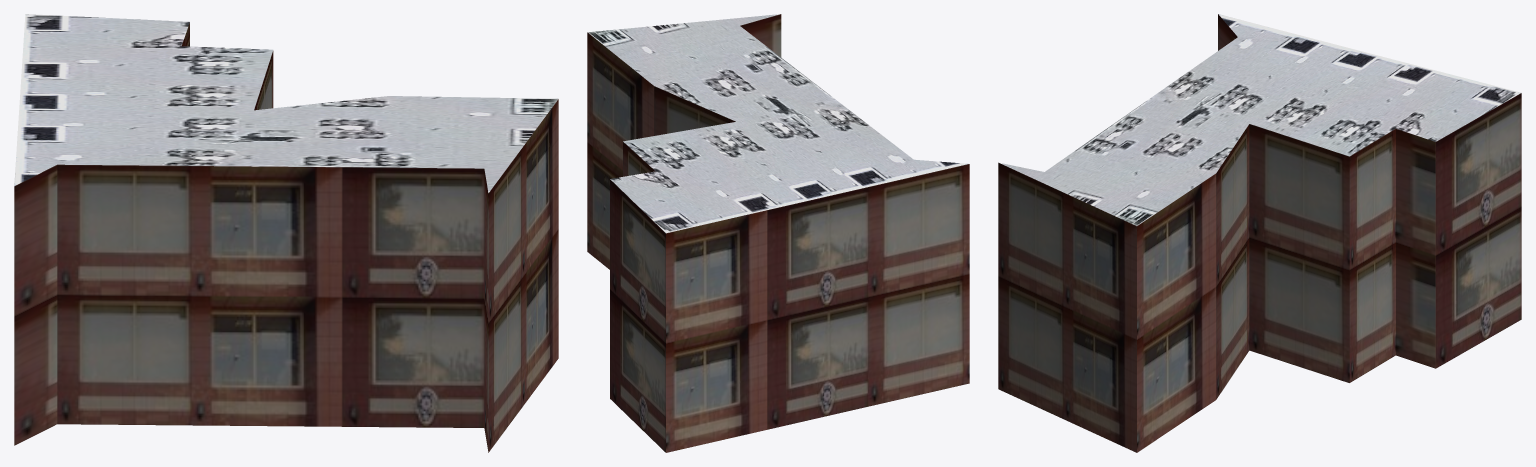
Rendered from ResTex__3596.fbx.
The picture shows the model from 3 angles, left to right: view 1: azimuth 30°, elevation 25°; view 2: azimuth 150°, elevation 25°; view 3: azimuth 270°, elevation 25°; orthographic projection. The views are drawn at different scales.
Parts seen in each view (by area): view 1: CityEngineMaterial_13_m, CityEngineMaterial_8_m; view 2: CityEngineMaterial_13_m, CityEngineMaterial_8_m; view 3: CityEngineMaterial_13_m, CityEngineMaterial_8_m.
Boxes of the visible parts, x1,y1,x2,y2 form: CityEngineMaterial_13_m: (14, 23, 558, 452); CityEngineMaterial_8_m: (14, 14, 558, 192); CityEngineMaterial_13_m: (587, 14, 969, 452); CityEngineMaterial_8_m: (588, 14, 968, 233); CityEngineMaterial_13_m: (998, 14, 1521, 452); CityEngineMaterial_8_m: (999, 14, 1521, 225).
Bounding box in the file's own units: 12.05 × 6 × 12.56.
Materials: 2 (2 with a texture image).
